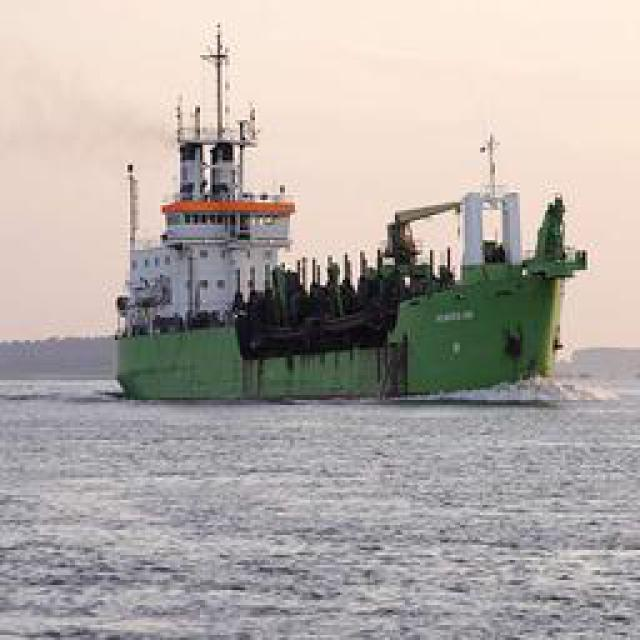Ship: (116, 16, 593, 413)
